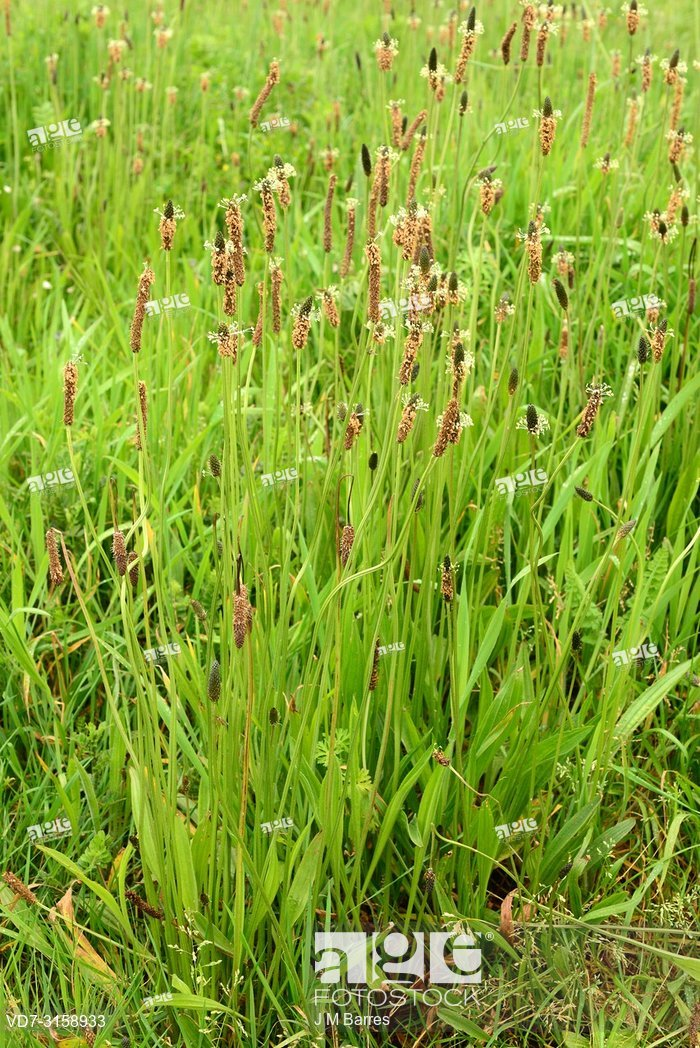buckhorn plantain: (305, 35, 700, 890), (42, 48, 346, 975)
